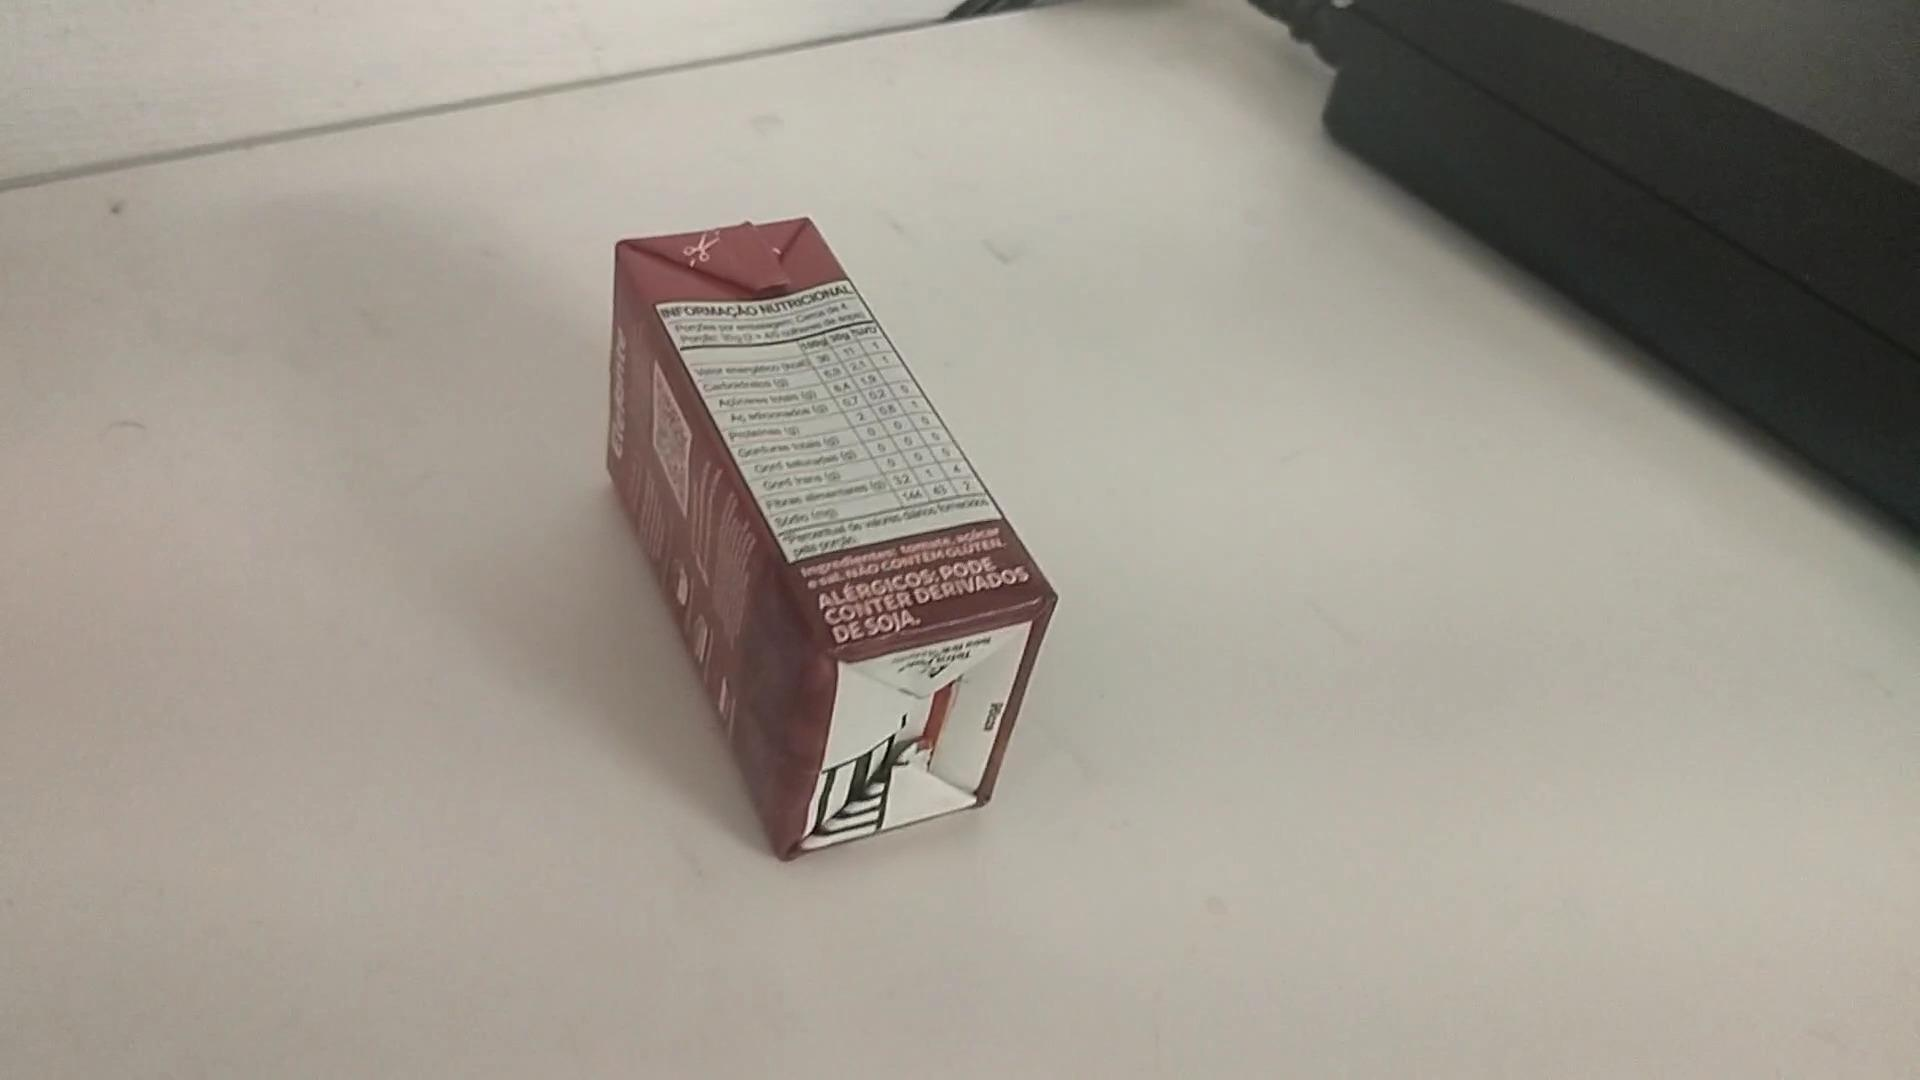tomate: (607, 222, 1064, 861)
